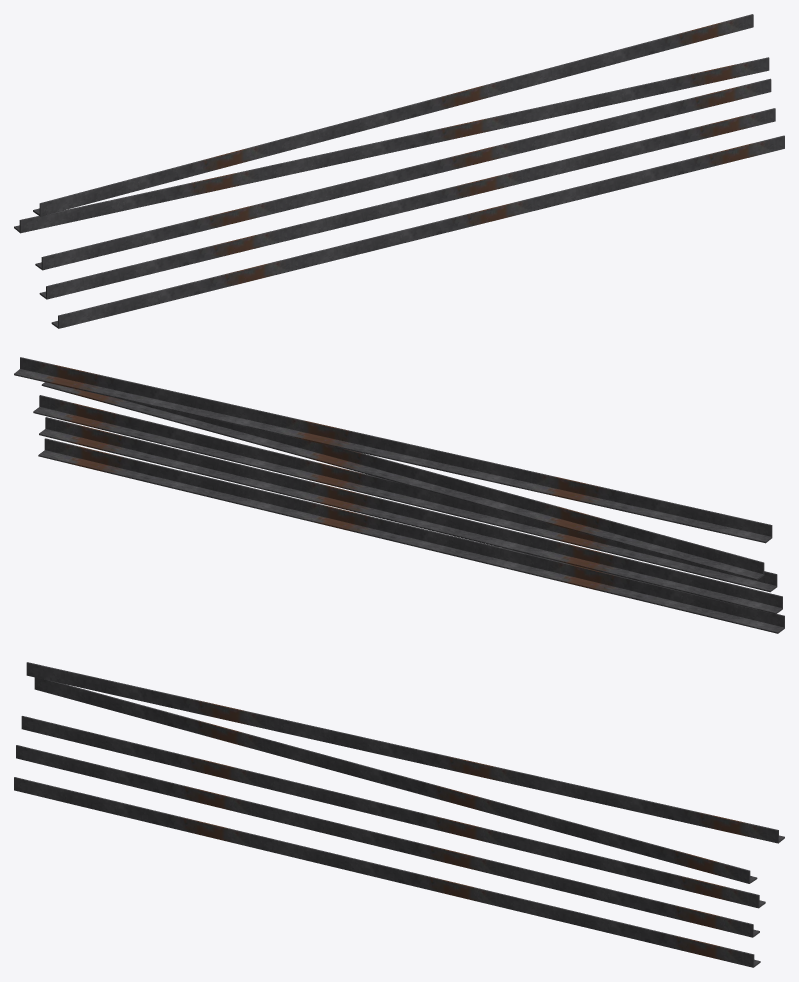
The model's file is EST-MET-003_anim.glb.
3 views of the same model, one above another, from view 1: azimuth 30°, elevation 25°; view 2: azimuth 150°, elevation 25°; view 3: azimuth 330°, elevation 25° (orthographic).
Visible parts, largest first — view 1: EST-MET-003_anim3, EST-MET-003_anim2, EST-MET-003_anim1, EST-MET-003_anim0, EST-MET-003_anim4; view 2: EST-MET-003_anim4, EST-MET-003_anim1, EST-MET-003_anim0, EST-MET-003_anim2, EST-MET-003_anim3; view 3: EST-MET-003_anim4, EST-MET-003_anim0, EST-MET-003_anim2, EST-MET-003_anim1, EST-MET-003_anim3.
Boxes of the visible parts, x1=… form: EST-MET-003_anim3: x1=14, y1=57, x2=769, y2=233; EST-MET-003_anim2: x1=35, y1=78, x2=771, y2=270; EST-MET-003_anim1: x1=39, y1=108, x2=775, y2=299; EST-MET-003_anim0: x1=51, y1=135, x2=784, y2=328; EST-MET-003_anim4: x1=33, y1=14, x2=753, y2=216; EST-MET-003_anim4: x1=14, y1=357, x2=772, y2=543; EST-MET-003_anim1: x1=39, y1=417, x2=782, y2=614; EST-MET-003_anim0: x1=38, y1=438, x2=784, y2=633; EST-MET-003_anim2: x1=33, y1=395, x2=777, y2=592; EST-MET-003_anim3: x1=41, y1=382, x2=764, y2=580; EST-MET-003_anim4: x1=26, y1=662, x2=784, y2=843; EST-MET-003_anim0: x1=14, y1=777, x2=760, y2=967; EST-MET-003_anim2: x1=21, y1=716, x2=765, y2=908; EST-MET-003_anim1: x1=16, y1=745, x2=759, y2=937; EST-MET-003_anim3: x1=34, y1=677, x2=757, y2=883.
Bounding box in the file's own units: 3.04 × 0.4507 × 0.2718.
Materials: 1 (1 with a texture image).
